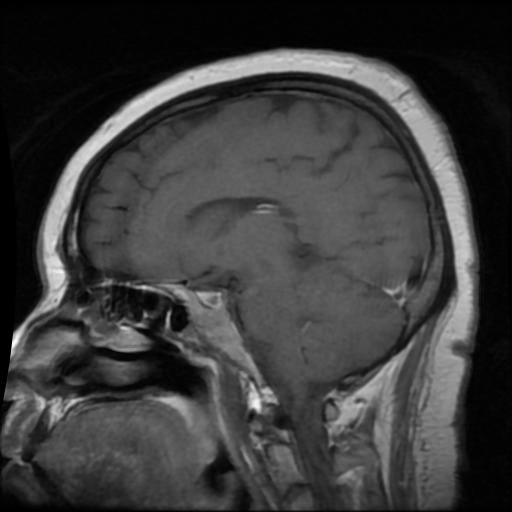Pituirity_tumour: (194, 289, 222, 305)
